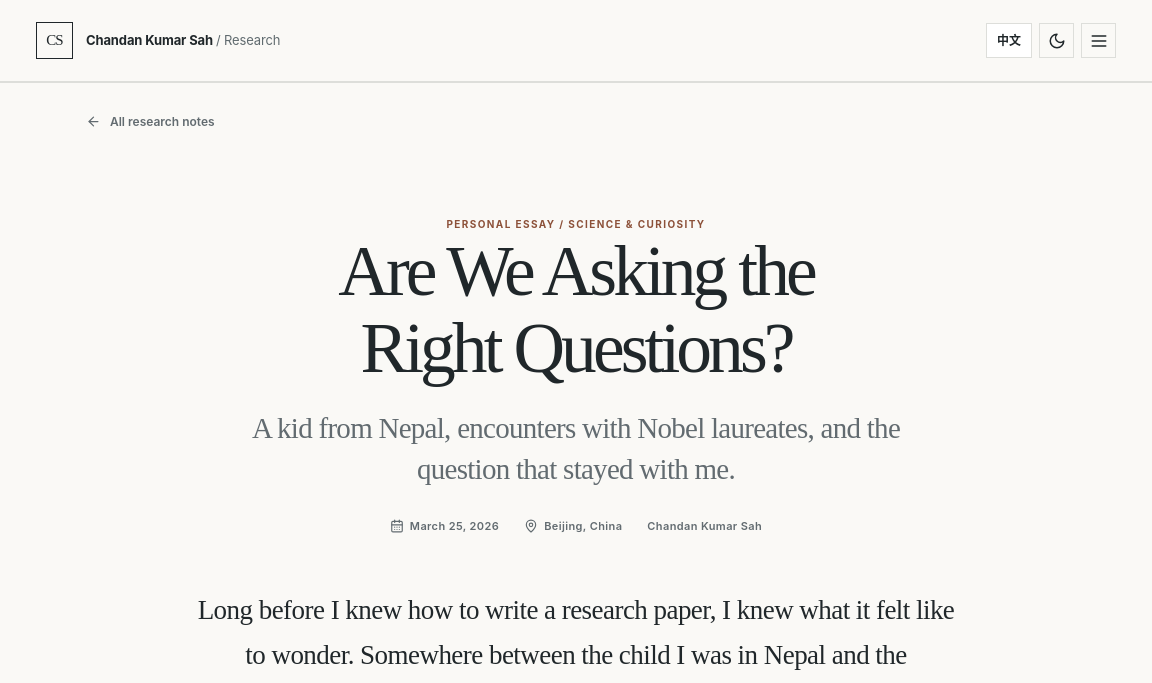
Test: Nobel laureate reflection and research notes archive › works in Simplified Chinese without affecting the canonical dated citation
The width and height of the screenshot is (1152, 683).
Click the button with aria-label "Switch website to Simplified Chinese" at (1009, 40), box [986,23,1032,58]
(page scrolled)
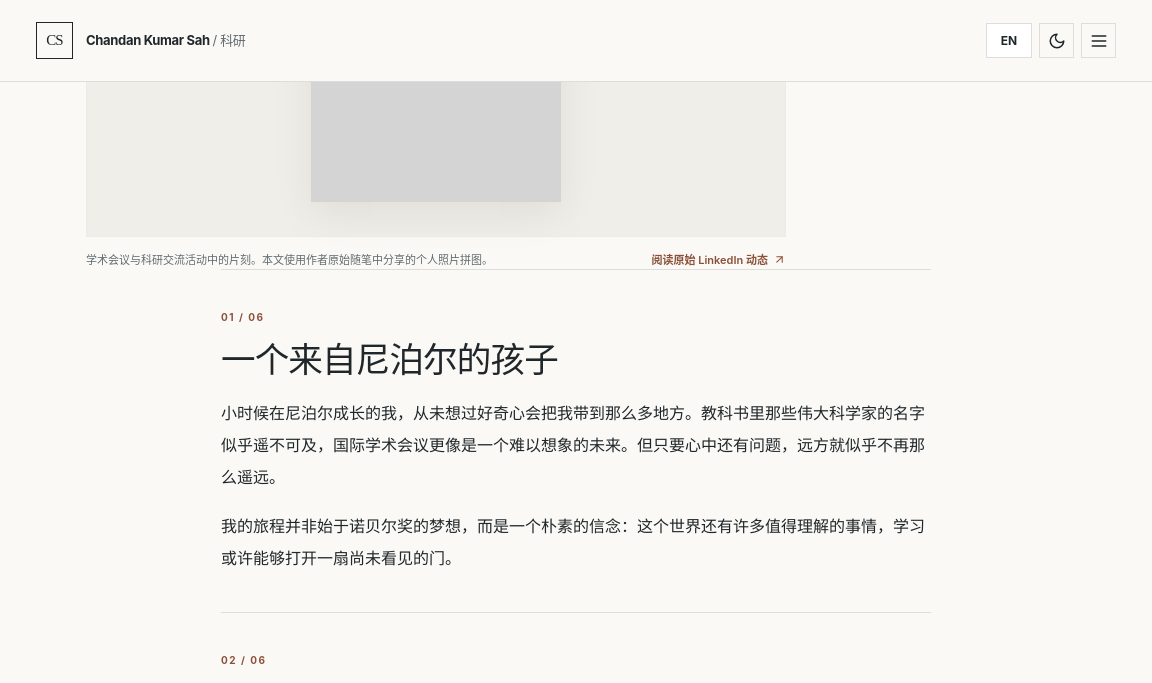
Expected: the heading "一个来自尼泊尔的孩子" is shown, [221,339,558,380]
